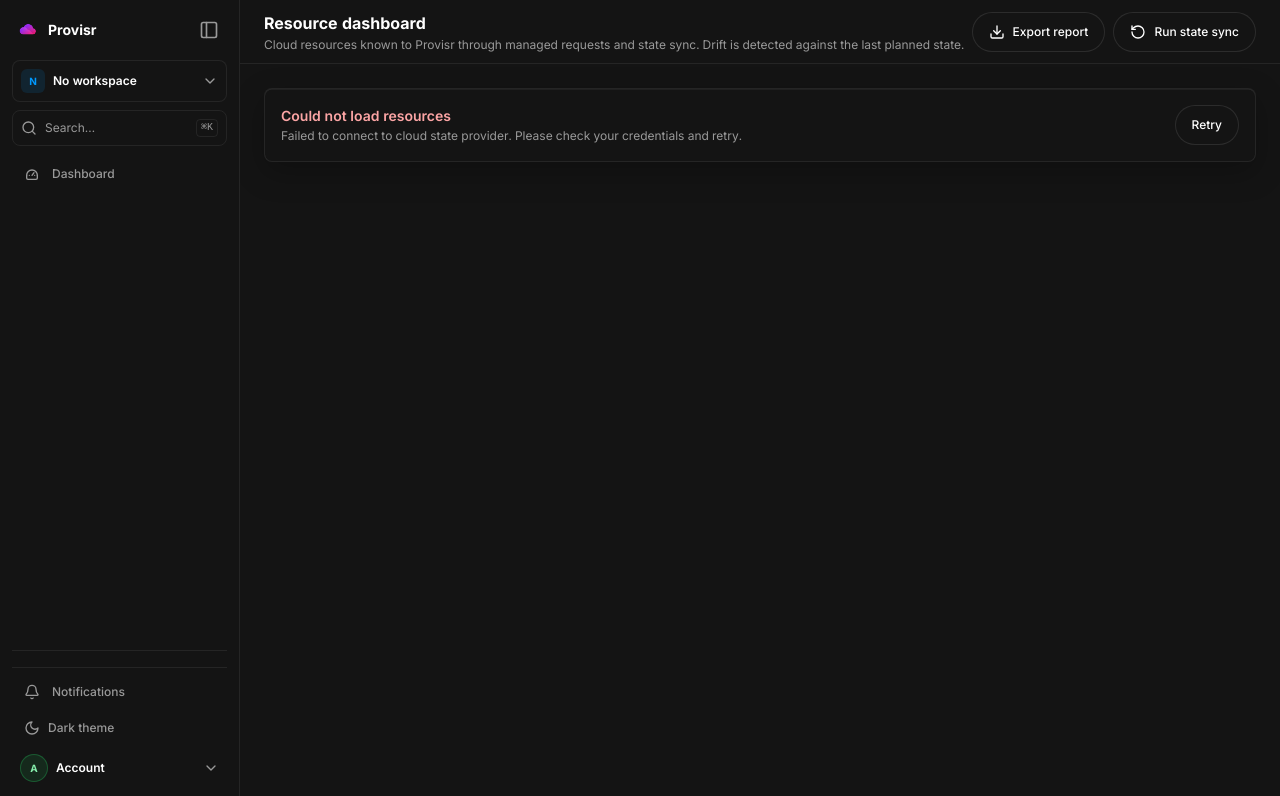
Scenario: ResourcesPage › renders error state with retry button when scenario is error
Expected: the text "Could not load resources" is shown, [281,107,451,124]
Expected: the text "Failed to connect to cloud state provider. Please check your credentials and retry." is shown, [281,128,742,143]
Click the button "Retry" at (1207, 125), box [1174,105,1239,145]
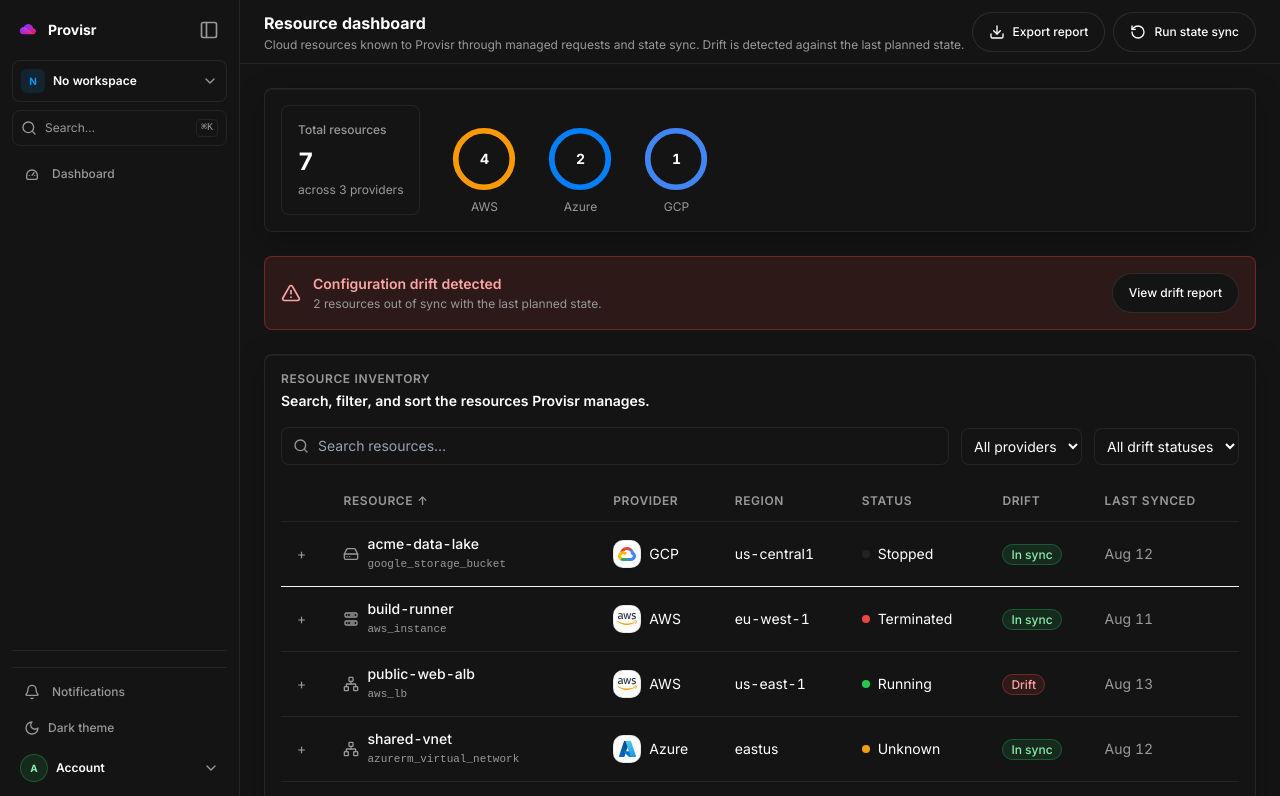
Expected: the text "Resource inventory" is shown, [281,371,430,386]
